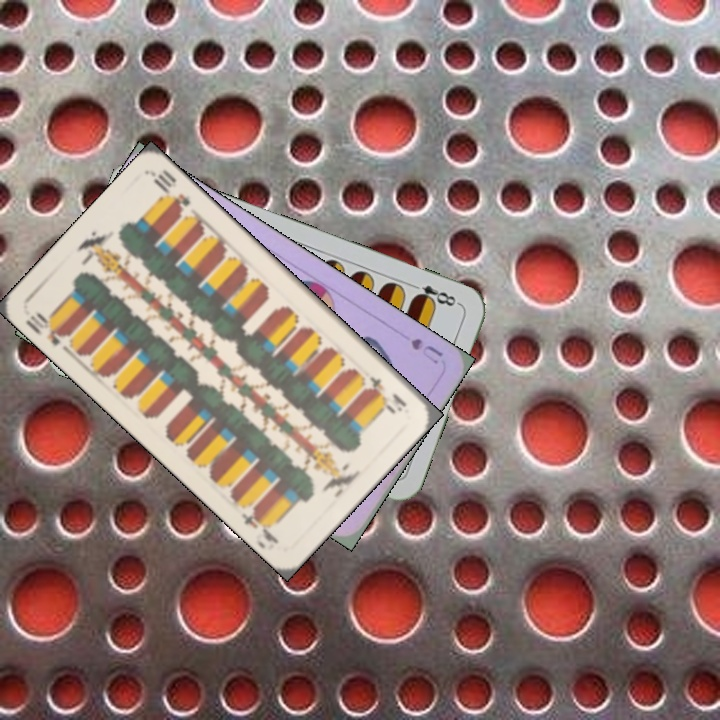E10: (22, 307, 76, 349), (365, 372, 409, 415)
E8: (406, 279, 463, 309)
SU: (406, 334, 446, 367)
